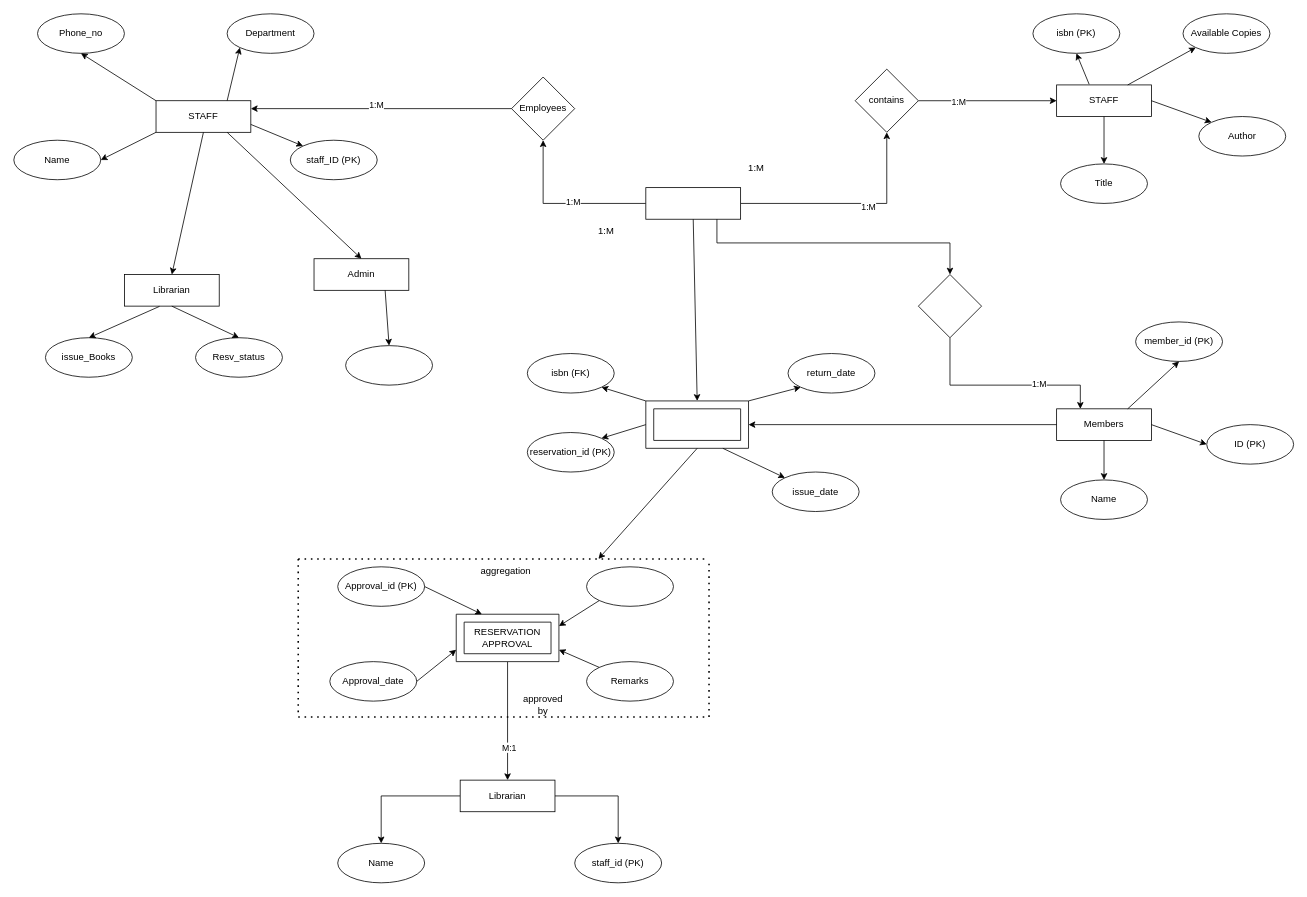
This 1307x897 diagram has some shape labels left out. The shapes that lost their labels are listed below. From the top down, each one's box as (x1, y1, x2, y2) in pixels, then its label:
(645, 187, 741, 219): LIBRARY
(918, 274, 982, 338): has
(345, 345, 433, 385): Manage_staff
(645, 400, 749, 448): RESERVATION
(586, 566, 673, 606): Approval_status
